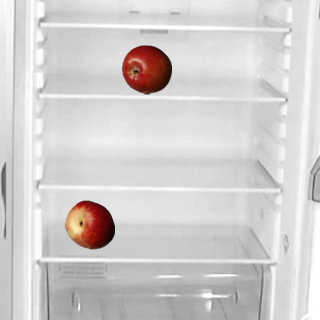Apple Braeburn: (121, 44, 171, 94)
Nectarine: (64, 199, 114, 249)
